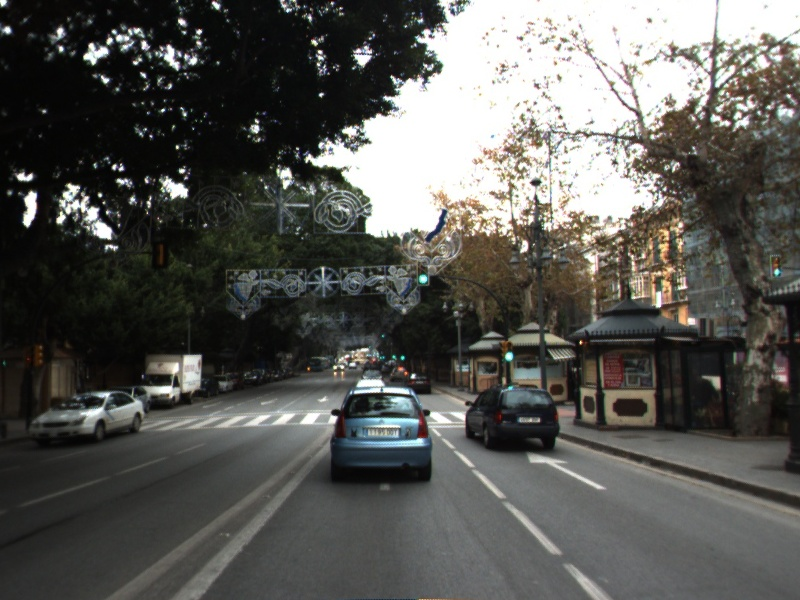STRAIGHT: (524, 449, 610, 491)
